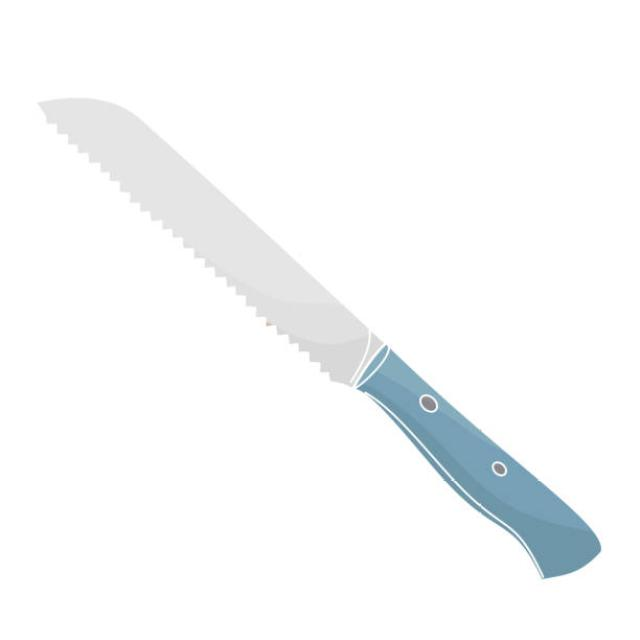Knife: (39, 96, 600, 579)
